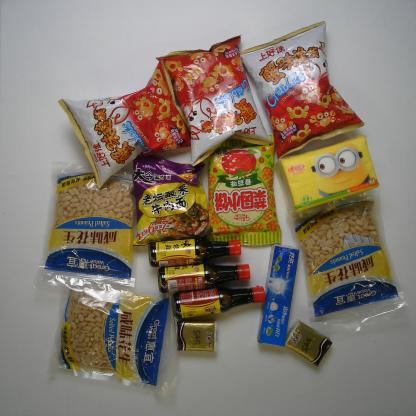Dried Fruit: (286, 190, 412, 331), (28, 156, 143, 305), (42, 282, 182, 401)
Instant Noodles: (129, 151, 217, 248)
Personal Hygiene: (256, 241, 302, 349)
Puffed Food: (55, 57, 195, 195), (237, 20, 367, 161), (154, 33, 279, 167), (203, 138, 284, 246)
Seasoner: (170, 284, 268, 320), (157, 259, 254, 294), (145, 236, 245, 266)
Tissue: (274, 133, 382, 221), (282, 319, 335, 367), (174, 317, 219, 355)
